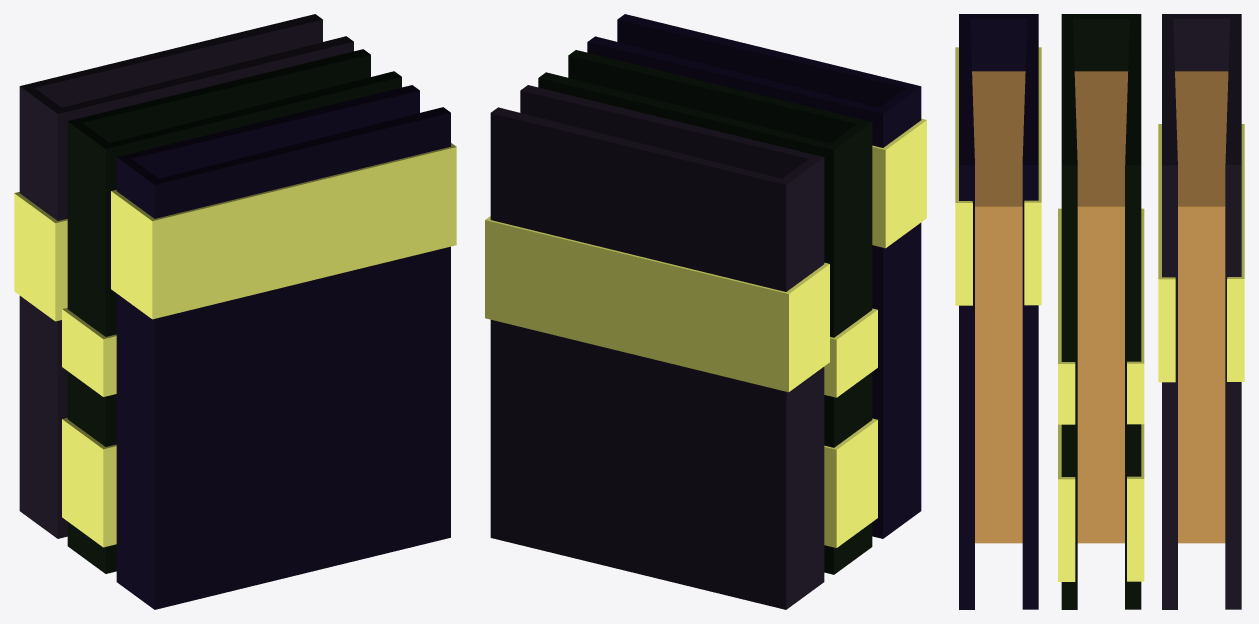
The model's file is Books.fbx.
3 renders of one model, left to right at view 1: azimuth 30°, elevation 25°; view 2: azimuth 150°, elevation 25°; view 3: azimuth 270°, elevation 25°, orthographic. The views are drawn at different scales.
Visible parts, largest first — view 1: Node 0; view 2: Node 0; view 3: Node 0.
Boxes of the visible parts, bbox=[...] form: Node 0: bbox=[14, 14, 456, 609]; Node 0: bbox=[485, 14, 926, 609]; Node 0: bbox=[955, 14, 1244, 609].
Bounding box in the file's own units: 0.1866 × 0.3165 × 0.2373.
